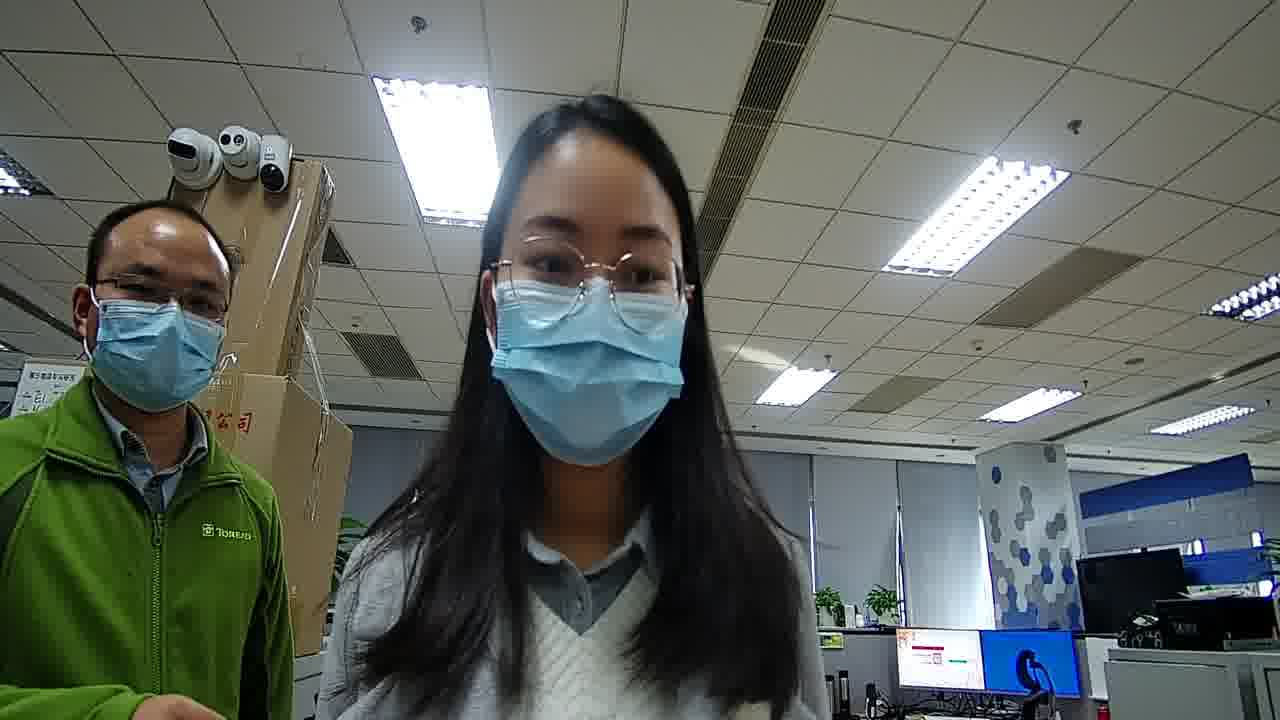face: (480, 145, 696, 468), (84, 230, 233, 409)
mask: (488, 277, 688, 466), (90, 298, 225, 407)
person: (324, 31, 819, 666), (2, 166, 281, 543)
